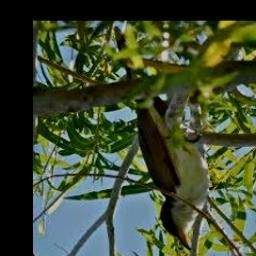Cuckoo: (113, 27, 209, 250)
